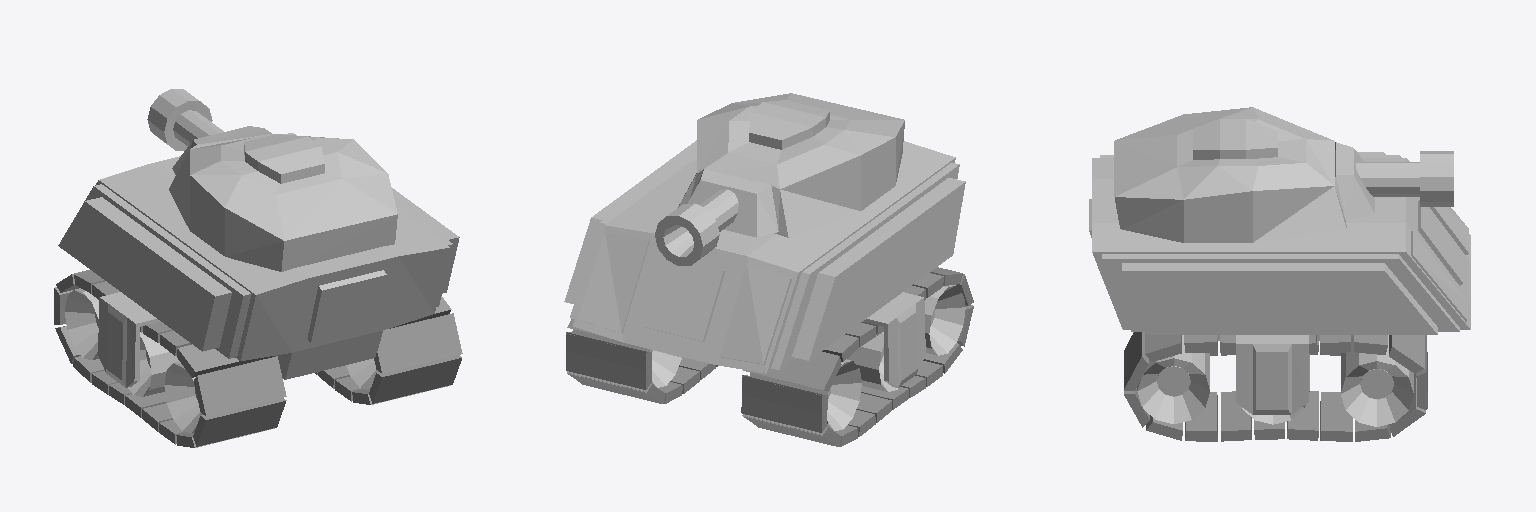
File: cartoon_tank.obj
The picture shows the model from 3 angles: view 1: azimuth 30°, elevation 25°; view 2: azimuth 150°, elevation 25°; view 3: azimuth 270°, elevation 25°; orthographic projection.
Visible parts, largest first — view 1: Cube.002, Cube.001, Cylinder, Cube.000_Cube.003, Cylinder.001; view 2: Cube.002, Cube.001, Cylinder, Cube.000_Cube.003, Cylinder.001; view 3: Cube.002, Cylinder.001, Cube.000_Cube.003.
Boxes of the visible parts, x1=… form: Cube.002: x1=58, y1=89, x2=459, y2=379; Cube.001: x1=54, y1=270, x2=286, y2=447; Cylinder: x1=65, y1=288, x2=202, y2=433; Cube.000_Cube.003: x1=315, y1=296, x2=462, y2=404; Cylinder.001: x1=346, y1=358, x2=378, y2=389; Cube.002: x1=564, y1=93, x2=965, y2=373; Cube.001: x1=741, y1=267, x2=973, y2=446; Cylinder: x1=750, y1=285, x2=965, y2=430; Cube.000_Cube.003: x1=566, y1=319, x2=717, y2=403; Cylinder.001: x1=572, y1=329, x2=681, y2=387; Cube.002: x1=1089, y1=107, x2=1470, y2=340; Cylinder.001: x1=1137, y1=335, x2=1413, y2=426; Cube.000_Cube.003: x1=1124, y1=332, x2=1427, y2=441.
Size of the model in its own units: 8.97 by 7.46 by 10.45.